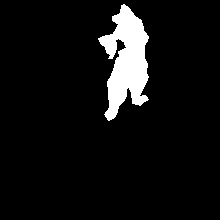Fire: (67, 15, 144, 159)
